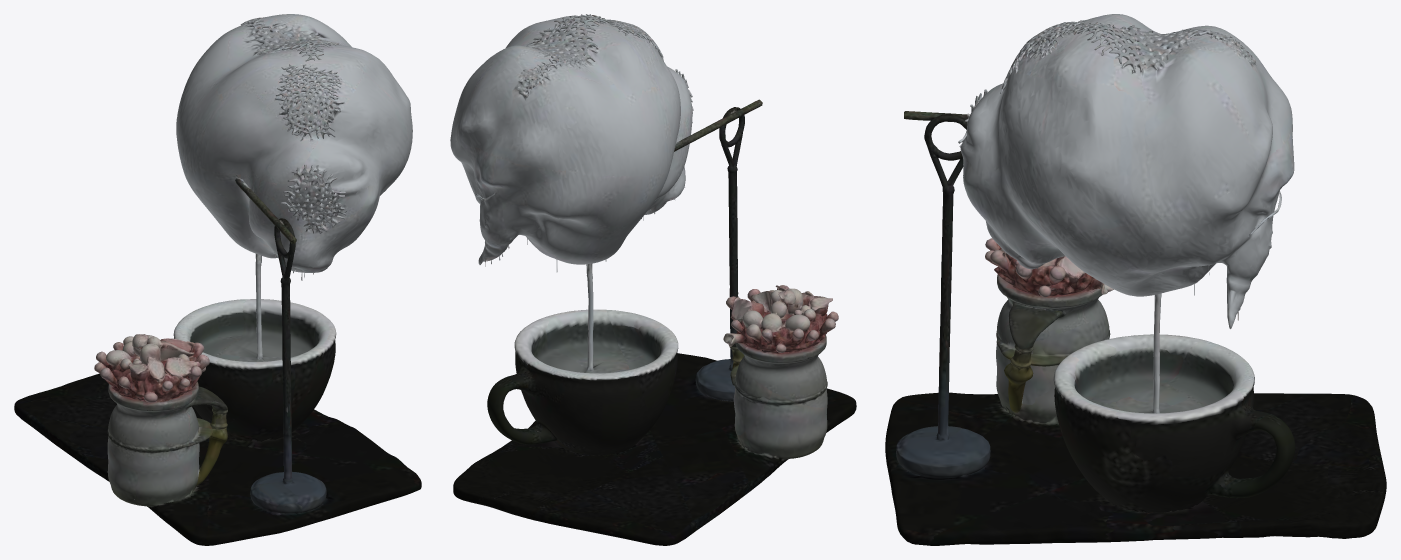
The model's file is cotton-candy.glb.
3 views of the same model, side by side, from view 1: azimuth 30°, elevation 25°; view 2: azimuth 150°, elevation 25°; view 3: azimuth 270°, elevation 25° (orthographic). The views are drawn at different scales.
Parts seen in each view (by area): view 1: tripo_node_dd876b00-6bdf-4d63-964f-fa6159ed0354; view 2: tripo_node_dd876b00-6bdf-4d63-964f-fa6159ed0354; view 3: tripo_node_dd876b00-6bdf-4d63-964f-fa6159ed0354.
Boxes of the visible parts, <box> form: tripo_node_dd876b00-6bdf-4d63-964f-fa6159ed0354: <box>14,14,421,545</box>; tripo_node_dd876b00-6bdf-4d63-964f-fa6159ed0354: <box>450,14,856,545</box>; tripo_node_dd876b00-6bdf-4d63-964f-fa6159ed0354: <box>885,14,1386,545</box>.
Size of the model in its own units: 0.8377 by 0.9795 by 0.895.
Materials: 1 (1 with a texture image).
